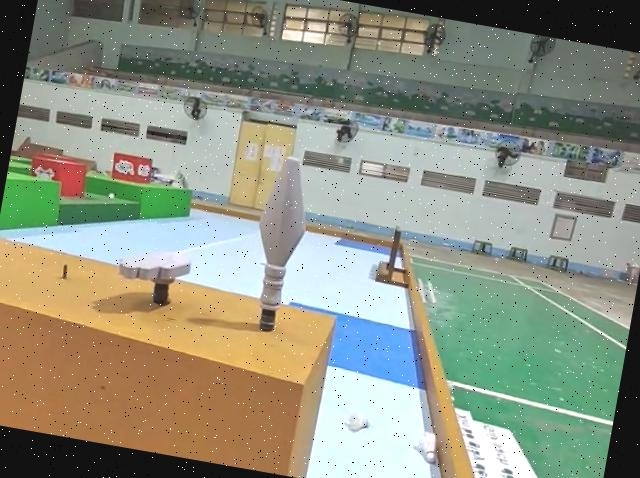Hand: (108, 243, 195, 314)
Sph: (237, 153, 320, 346)
